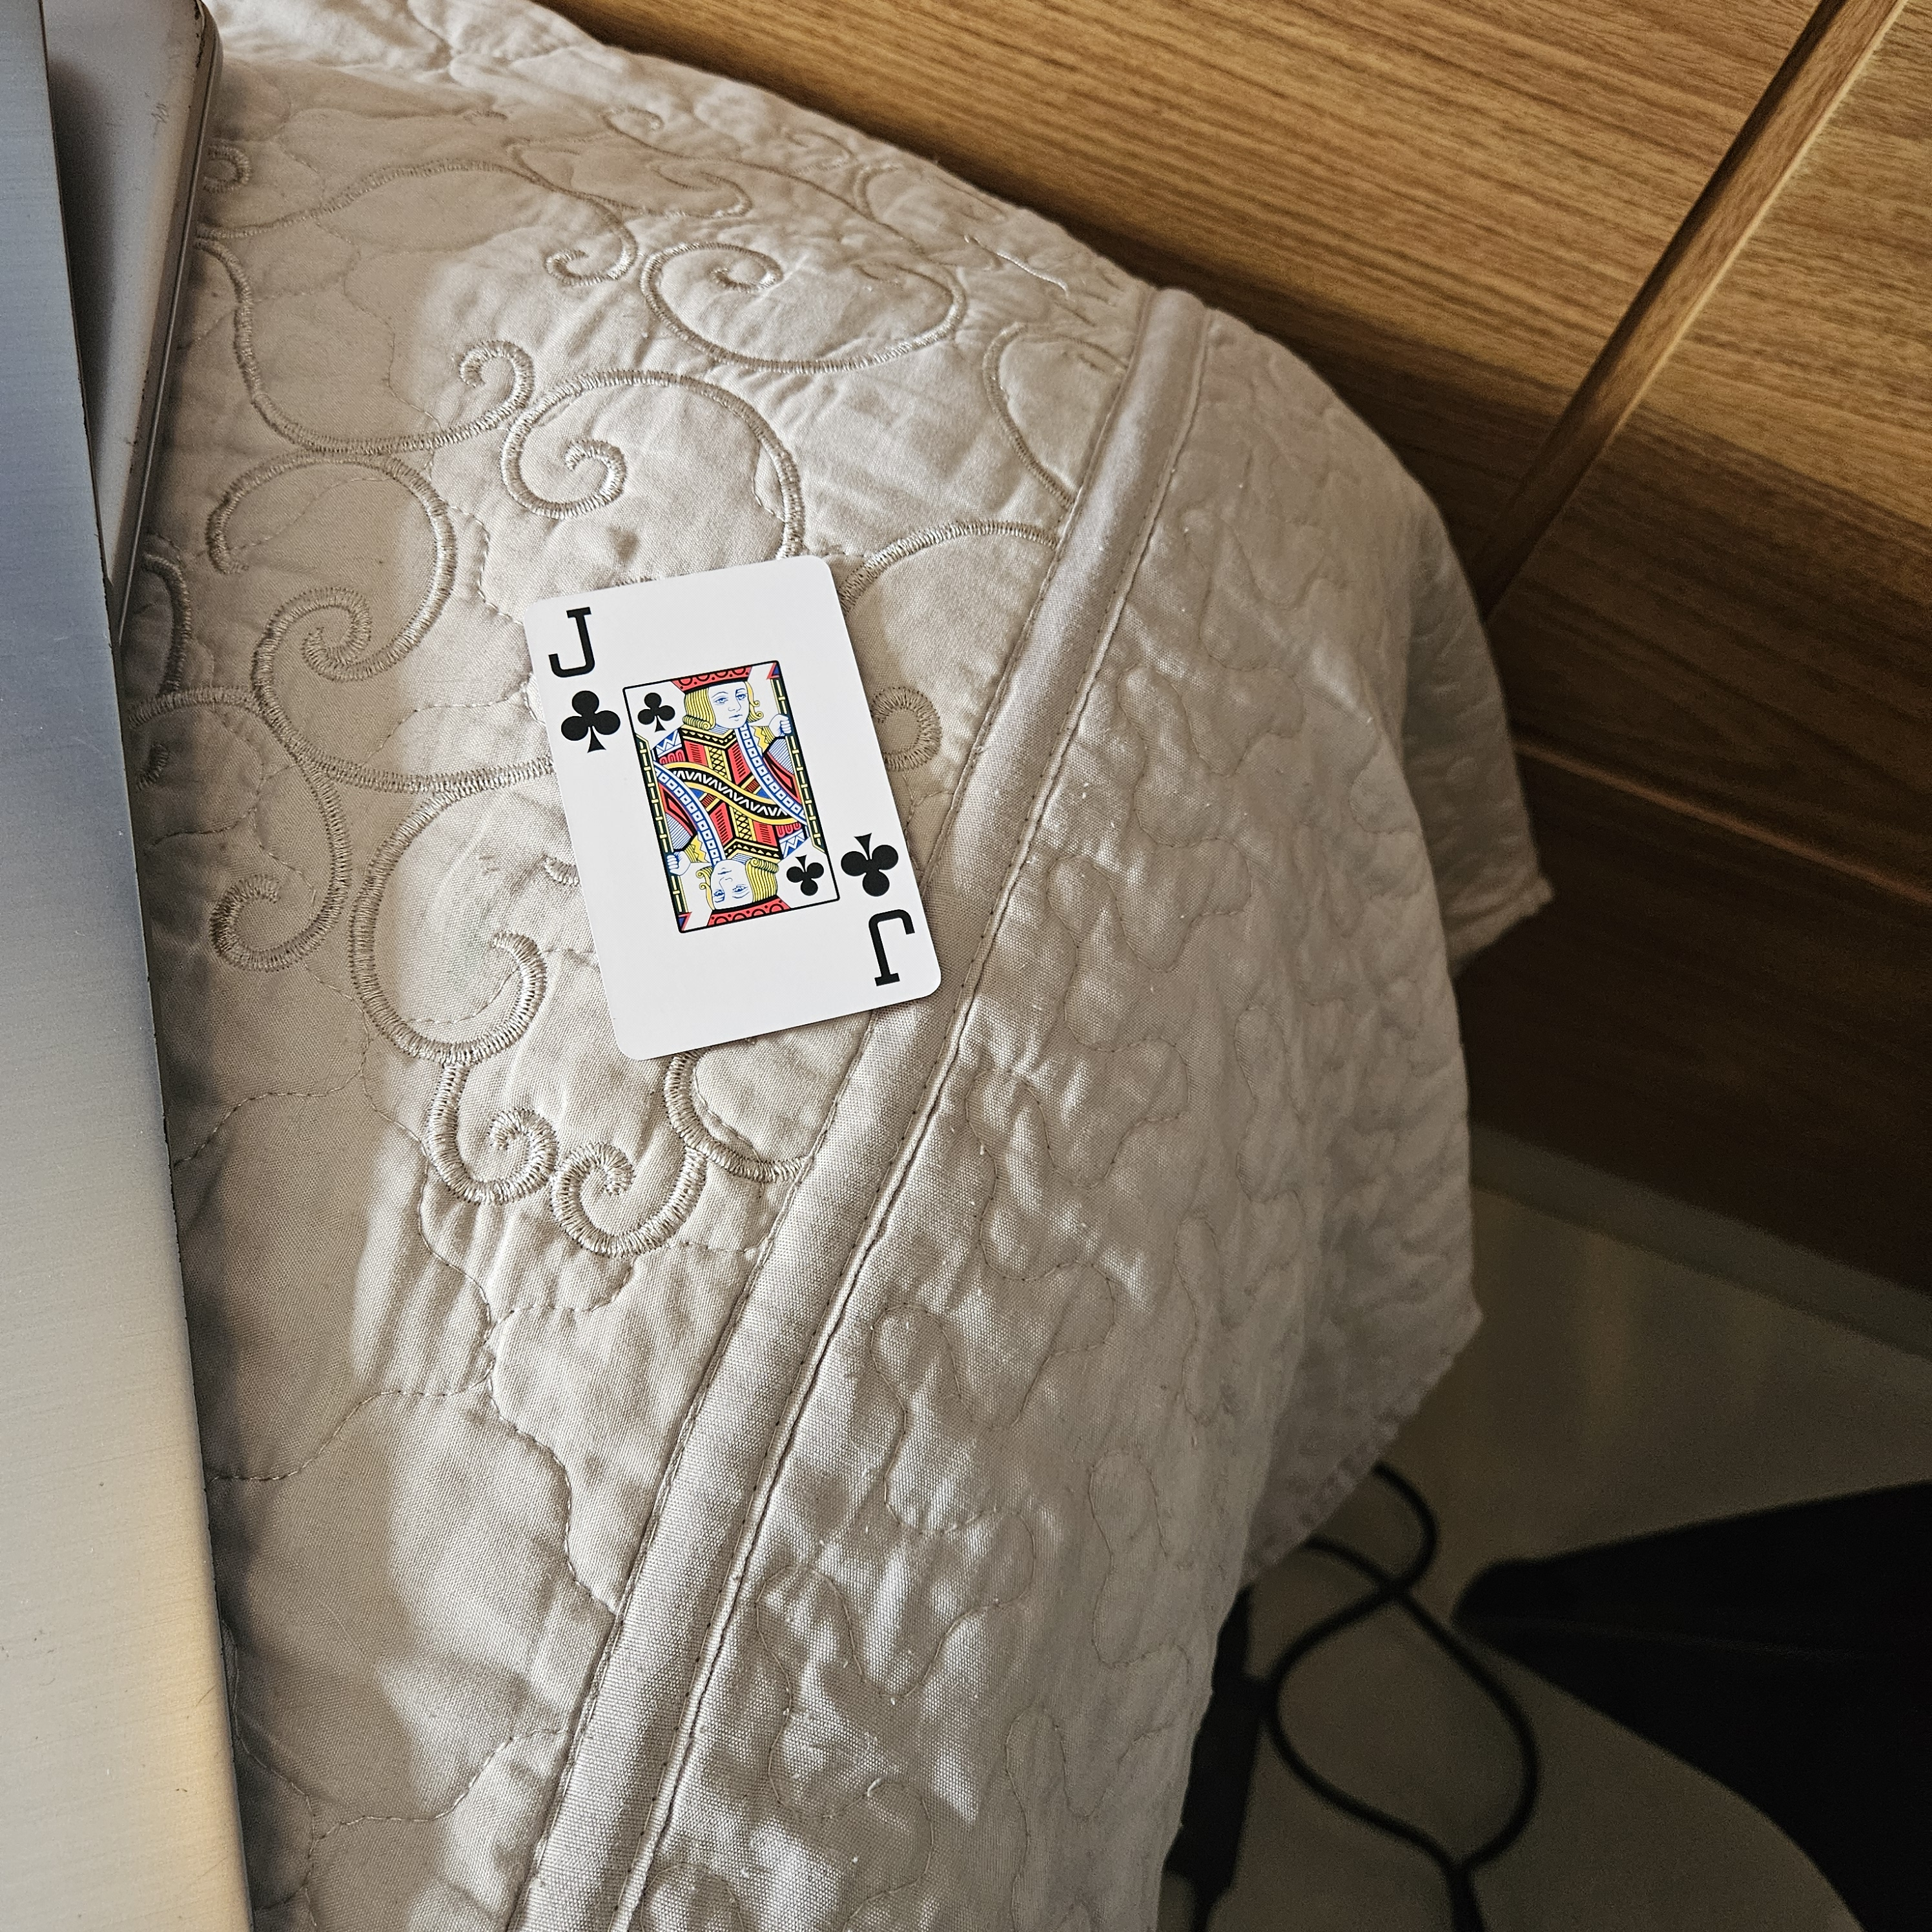JP: (828, 816, 932, 998), (527, 593, 633, 761)
